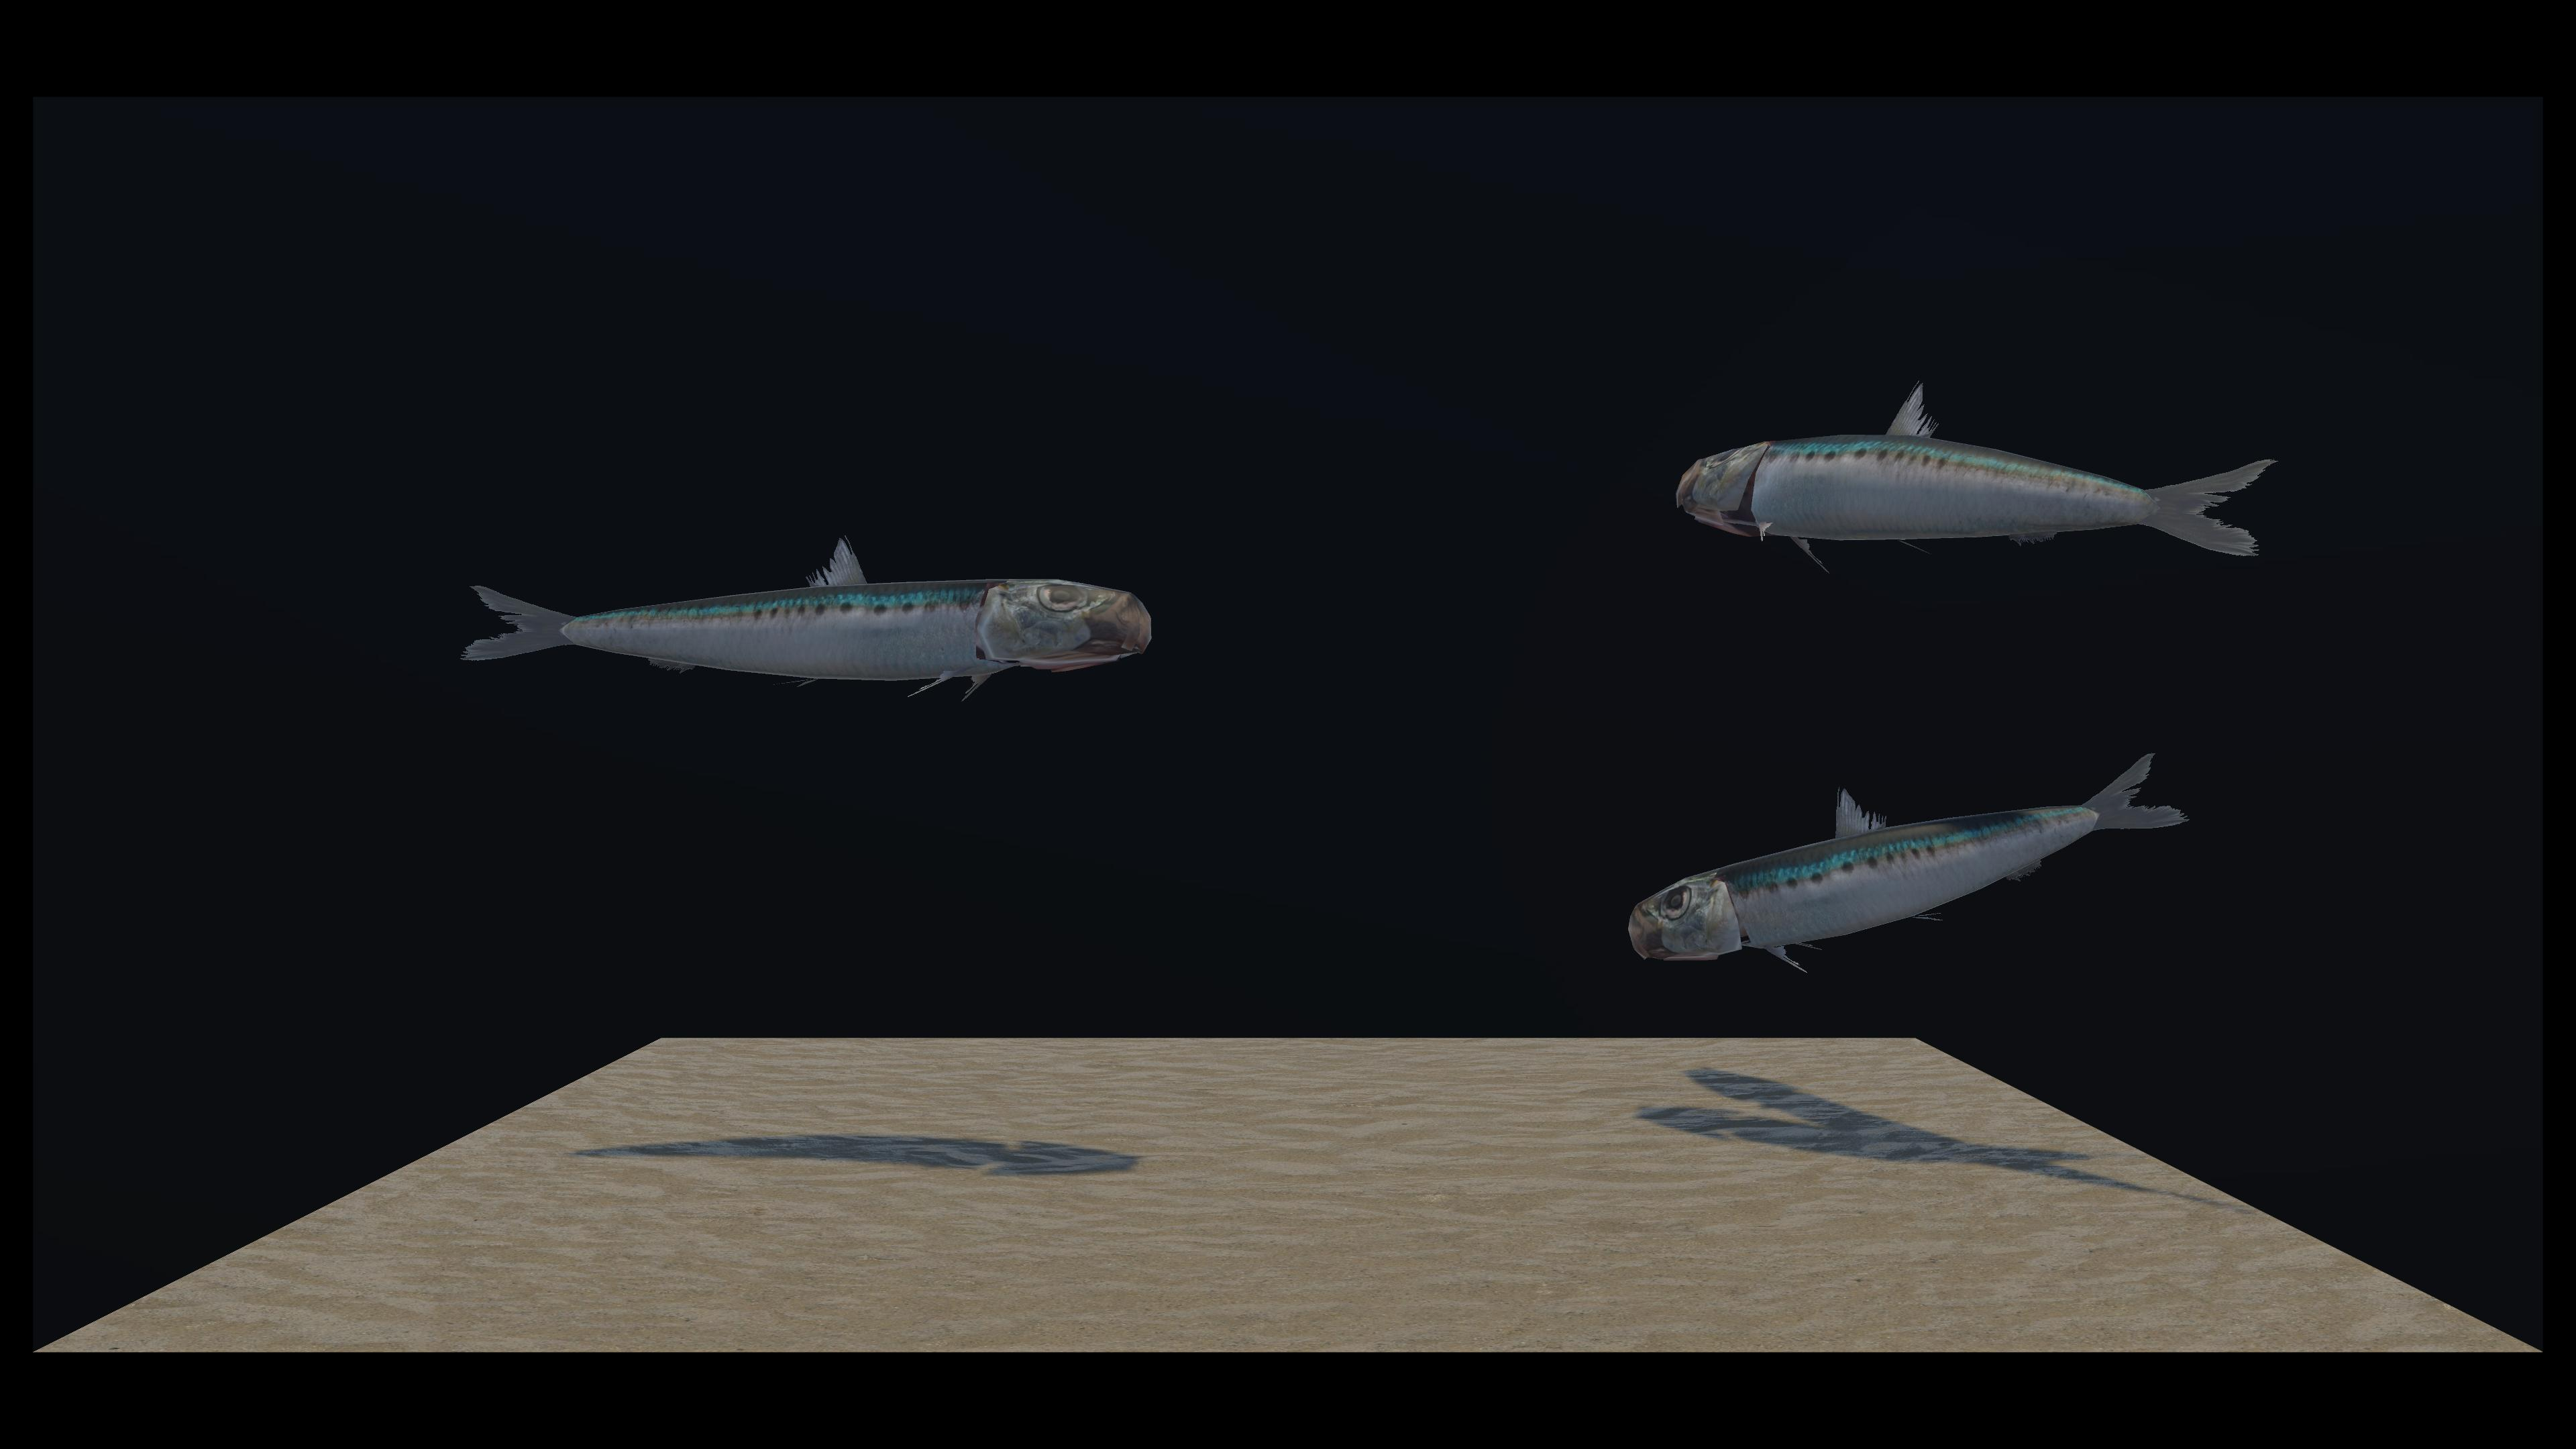Sardine_Front: (902, 421, 2189, 982), (474, 257, 1127, 711), (853, 396, 2265, 575)
